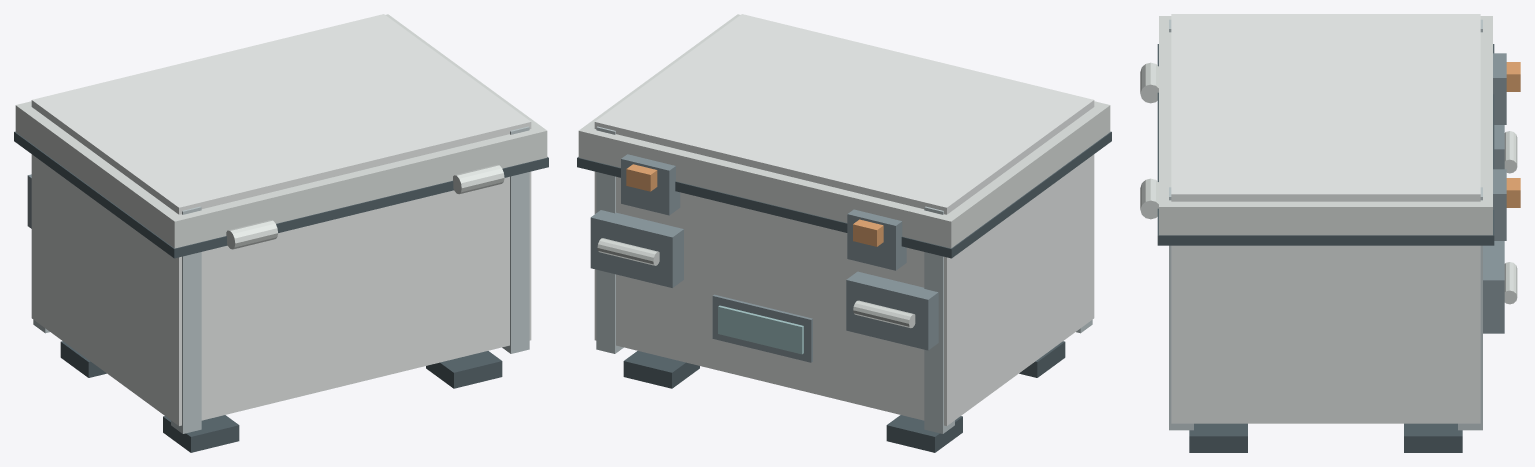
The model's file is exterior_cargo_crate_large.glb.
3 views of the same model, side by side, from view 1: azimuth 30°, elevation 25°; view 2: azimuth 150°, elevation 25°; view 3: azimuth 270°, elevation 25° (orthographic). The views are drawn at different scales.
Visible parts, largest first — view 1: case_shell_white_ceramic, upper_lid_warm_panel, vertical_frame_alloy, lid_gasket_black_rubber, stacking_feet_black_rubber, rear_hinge_satin_steel; view 2: case_shell_white_ceramic, upper_lid_warm_panel, liftable_handles_dark_alloy, vertical_frame_alloy, lid_gasket_black_rubber, lid_latches_dark_alloy, stacking_feet_black_rubber, blank_identification_insert_teal_soft, blank_identification_holder_dark_alloy, liftable_handles_satin_steel, lid_latches_orange; view 3: case_shell_white_ceramic, upper_lid_warm_panel, lid_gasket_black_rubber, stacking_feet_black_rubber, liftable_handles_dark_alloy, lid_latches_dark_alloy, vertical_frame_alloy, rear_hinge_satin_steel, liftable_handles_satin_steel, lid_latches_orange.
Part boxes in pixels (left/top/right/bottom): case_shell_white_ceramic: left=31, top=14, right=531, bottom=425; upper_lid_warm_panel: left=15, top=14, right=547, bottom=248; vertical_frame_alloy: left=33, top=126, right=529, bottom=433; lid_gasket_black_rubber: left=14, top=131, right=548, bottom=258; stacking_feet_black_rubber: left=60, top=341, right=502, bottom=452; rear_hinge_satin_steel: left=226, top=164, right=504, bottom=249; case_shell_white_ceramic: left=594, top=14, right=1094, bottom=425; upper_lid_warm_panel: left=578, top=14, right=1110, bottom=248; liftable_handles_dark_alloy: left=590, top=210, right=938, bottom=350; vertical_frame_alloy: left=596, top=126, right=1092, bottom=433; lid_gasket_black_rubber: left=577, top=131, right=1111, bottom=258; lid_latches_dark_alloy: left=621, top=154, right=906, bottom=270; stacking_feet_black_rubber: left=623, top=341, right=1065, bottom=452; blank_identification_insert_teal_soft: left=718, top=305, right=803, bottom=354; blank_identification_holder_dark_alloy: left=712, top=294, right=812, bottom=362; liftable_handles_satin_steel: left=597, top=238, right=915, bottom=328; lid_latches_orange: left=626, top=164, right=883, bottom=246; case_shell_white_ceramic: left=1171, top=14, right=1480, bottom=423; upper_lid_warm_panel: left=1159, top=16, right=1492, bottom=235; lid_gasket_black_rubber: left=1157, top=44, right=1494, bottom=245; stacking_feet_black_rubber: left=1189, top=423, right=1462, bottom=452; liftable_handles_dark_alloy: left=1483, top=125, right=1504, bottom=333; lid_latches_dark_alloy: left=1493, top=53, right=1506, bottom=240; vertical_frame_alloy: left=1169, top=19, right=1482, bottom=430; rear_hinge_satin_steel: left=1140, top=62, right=1158, bottom=219; liftable_handles_satin_steel: left=1504, top=131, right=1517, bottom=304; lid_latches_orange: left=1506, top=62, right=1520, bottom=207.
Bounding box in the file's own units: 1 × 0.6575 × 0.842.
